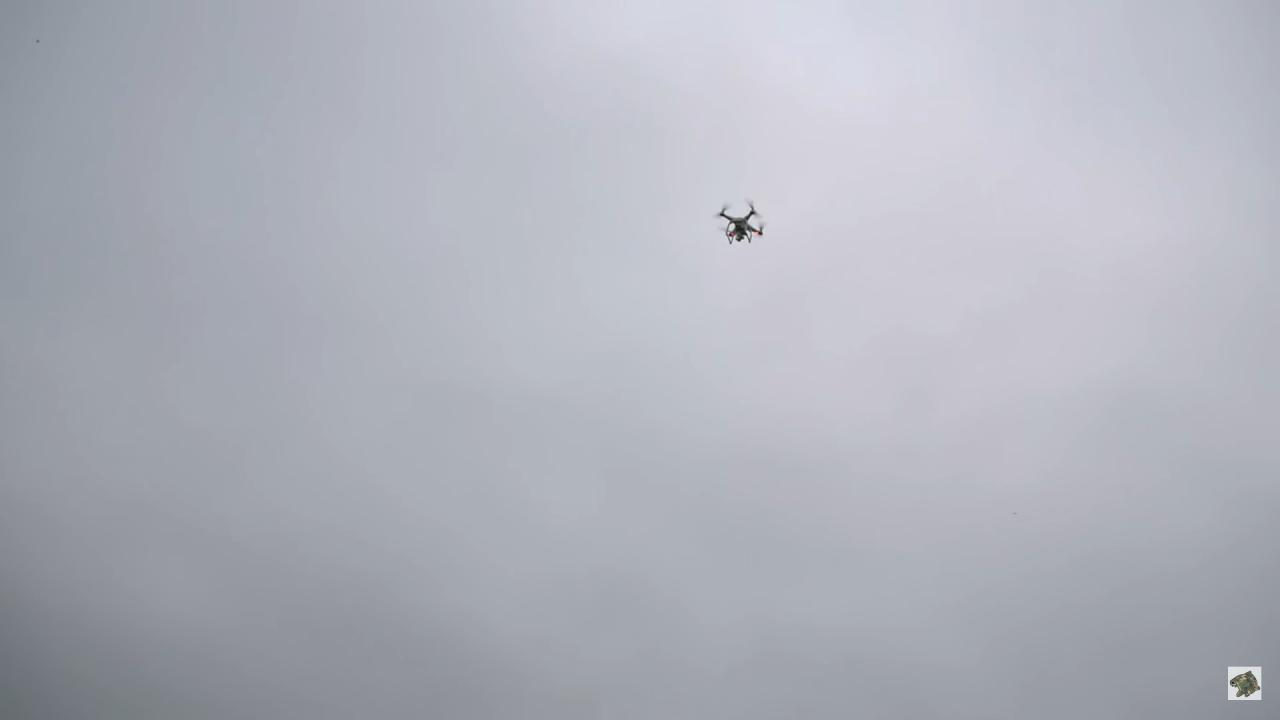Drone: (706, 194, 775, 256)
